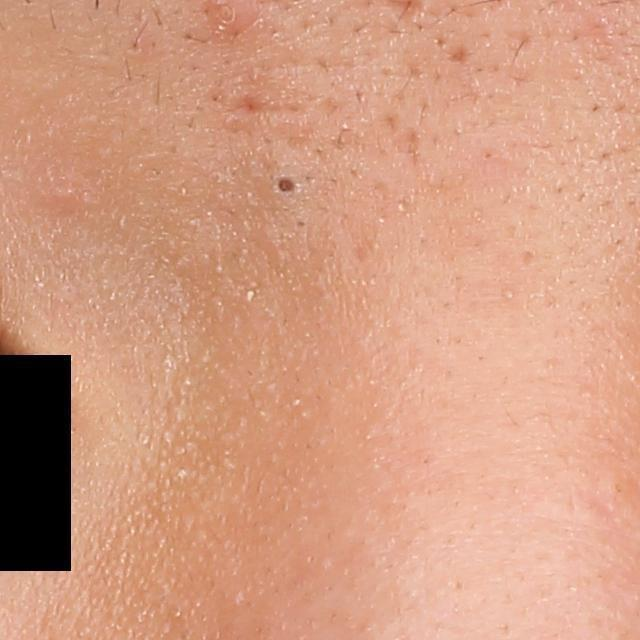papule: (207, 5, 241, 30)
